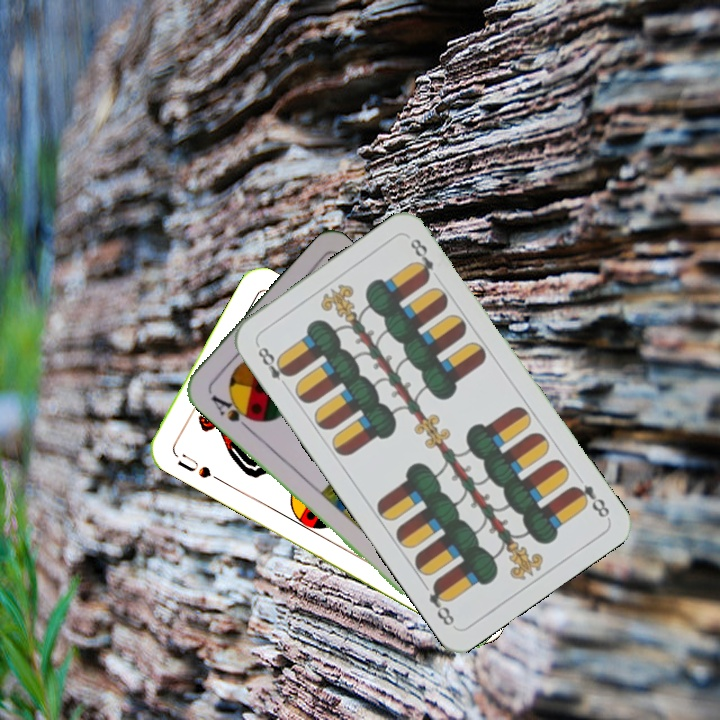E8: (252, 340, 295, 392), (567, 481, 613, 521)
SA: (207, 391, 259, 433)
SU: (173, 449, 224, 485)
